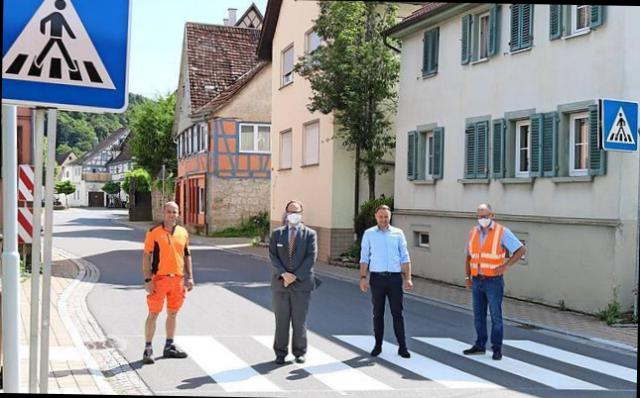crosswalk-sign: (3, 1, 133, 113), (600, 103, 640, 152)
